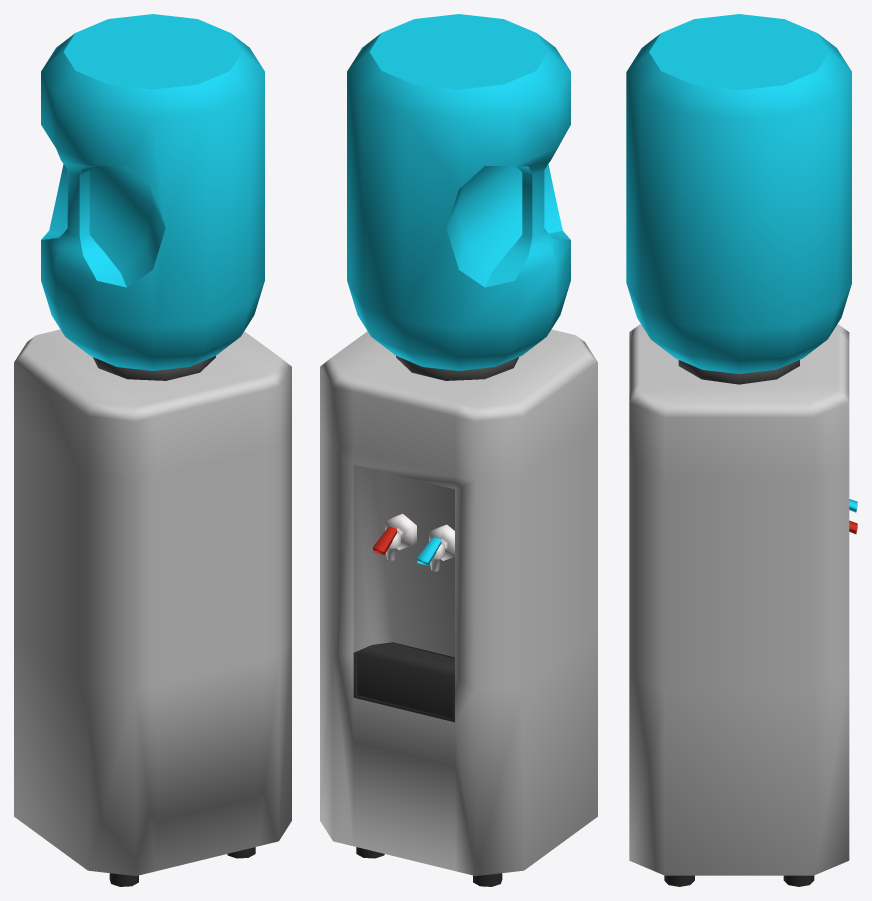
The model's file is mesh_water_cooler_01.fbx.
The picture shows the model from 3 angles, left to right: view 1: azimuth 30°, elevation 25°; view 2: azimuth 150°, elevation 25°; view 3: azimuth 270°, elevation 25°; orthographic projection.
Visible parts, largest first — view 1: mesh_water_cooler_01, mesh_water_cooler_02; view 2: mesh_water_cooler_01, mesh_water_cooler_02; view 3: mesh_water_cooler_01, mesh_water_cooler_02.
Part boxes in pixels (bbox=[...]): mesh_water_cooler_01: bbox=[14, 329, 291, 886]; mesh_water_cooler_02: bbox=[41, 14, 264, 370]; mesh_water_cooler_01: bbox=[320, 329, 597, 886]; mesh_water_cooler_02: bbox=[347, 14, 570, 370]; mesh_water_cooler_01: bbox=[629, 324, 857, 886]; mesh_water_cooler_02: bbox=[626, 14, 851, 373].
Size of the model in its own units: 6.25 by 23.22 by 6.08.
